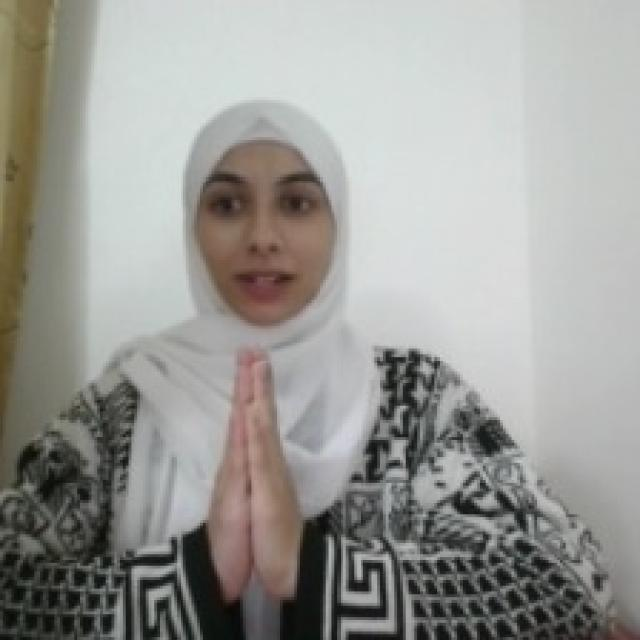sorry: (200, 338, 313, 606)
